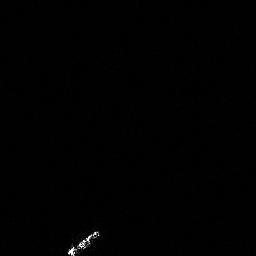ship: (66, 228, 101, 256)
